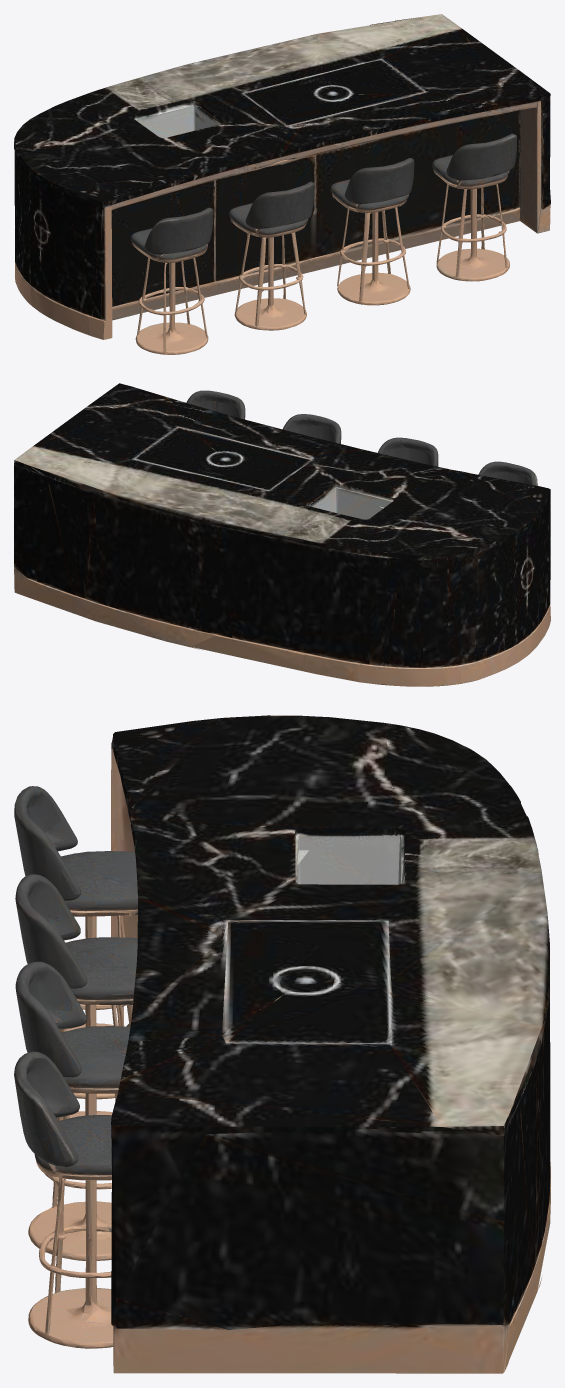
The model's file is island.glb.
The picture shows the model from 3 angles, top to bottom: view 1: azimuth 30°, elevation 25°; view 2: azimuth 150°, elevation 25°; view 3: azimuth 270°, elevation 25°; orthographic projection. The views are drawn at different scales.
Parts seen in each view (by area): view 1: room_island; view 2: room_island; view 3: room_island.
Part boxes in pixels (x1=…): room_island: x1=14, y1=14, x2=550, y2=354; room_island: x1=14, y1=383, x2=550, y2=686; room_island: x1=14, y1=715, x2=550, y2=1373.
Bounding box in the file's own units: 2.7 × 0.8265 × 1.49.
Materials: 1 (1 with a texture image).
